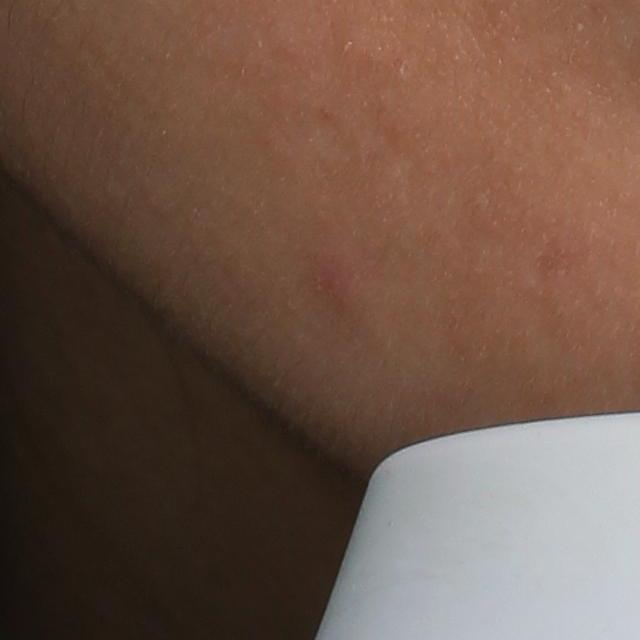papule: (318, 266, 360, 317)
